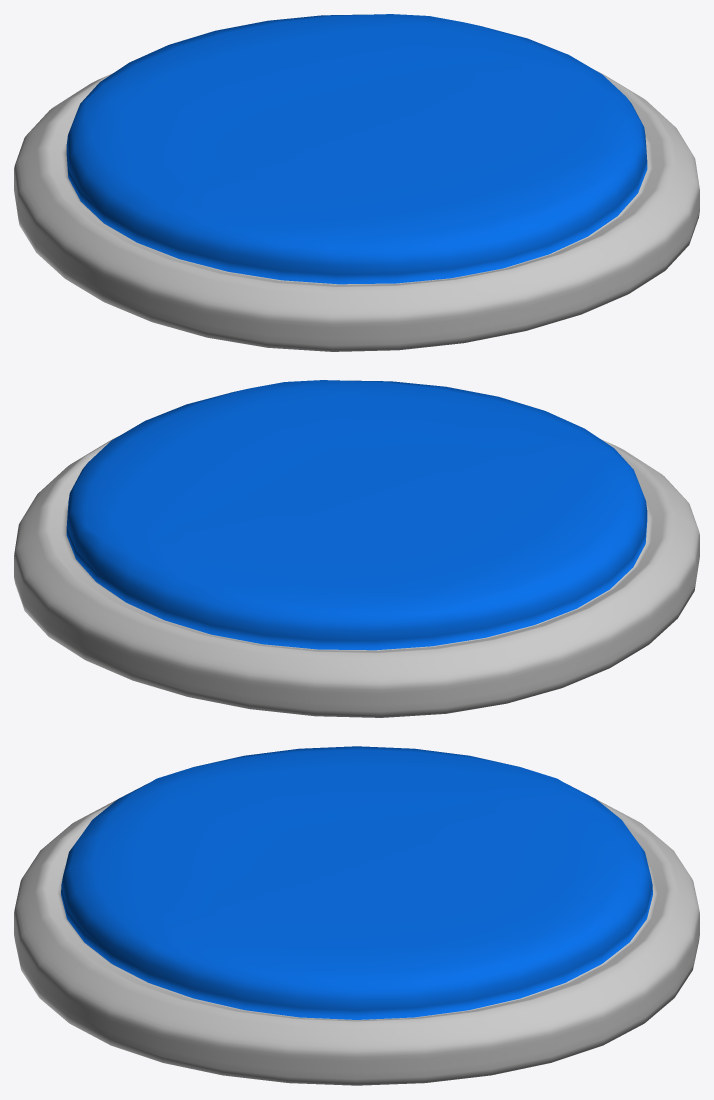
File: space.fbx
3 views of the same model, one above another, from view 1: azimuth 30°, elevation 25°; view 2: azimuth 150°, elevation 25°; view 3: azimuth 270°, elevation 25° (orthographic).
Visible parts, largest first — view 1: Cube; view 2: Cube; view 3: Cube.
Boxes of the visible parts, x1,y1,x2,y2 form: Cube: (14,14,699,351); Cube: (14,380,699,717); Cube: (14,746,699,1085).
Bounding box in the file's own units: 142 × 22.3 × 142.
